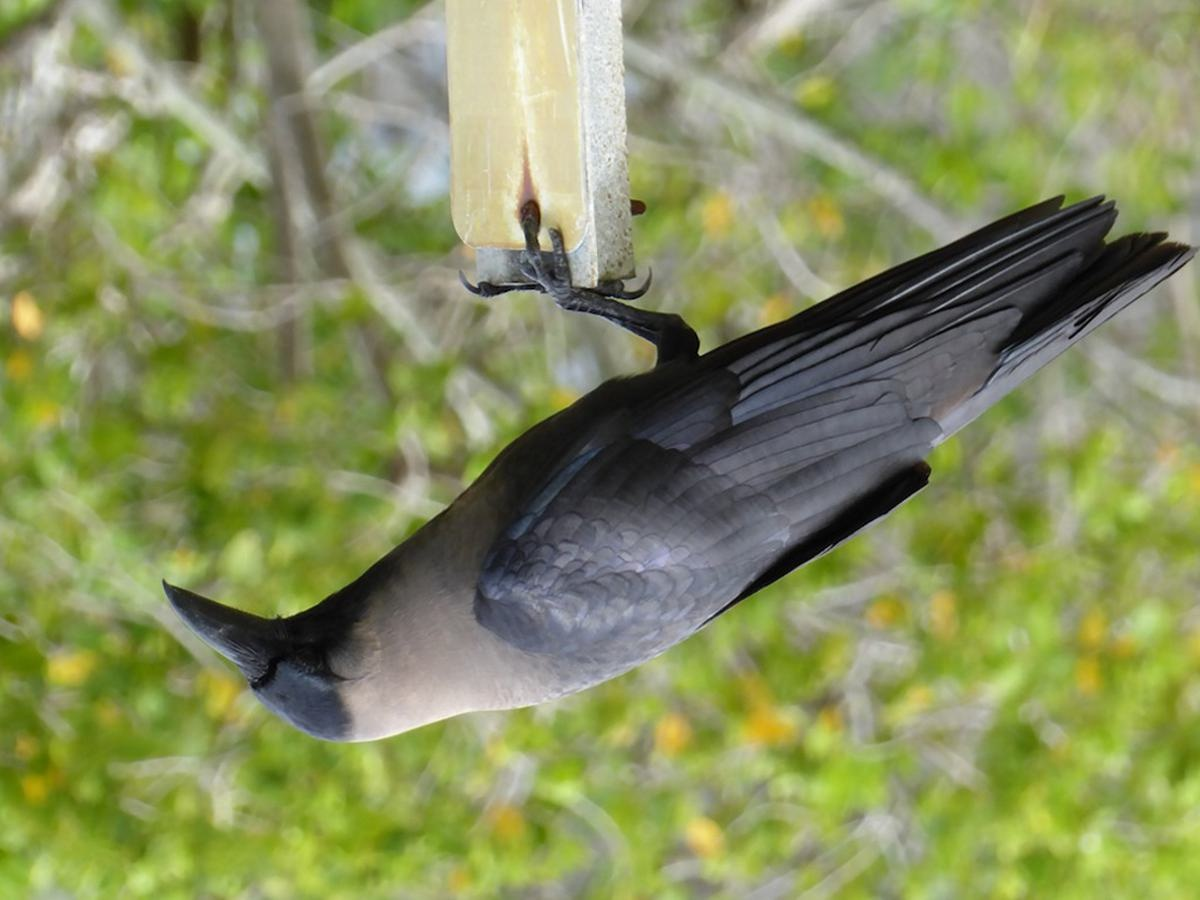crow: (167, 182, 1158, 763)
